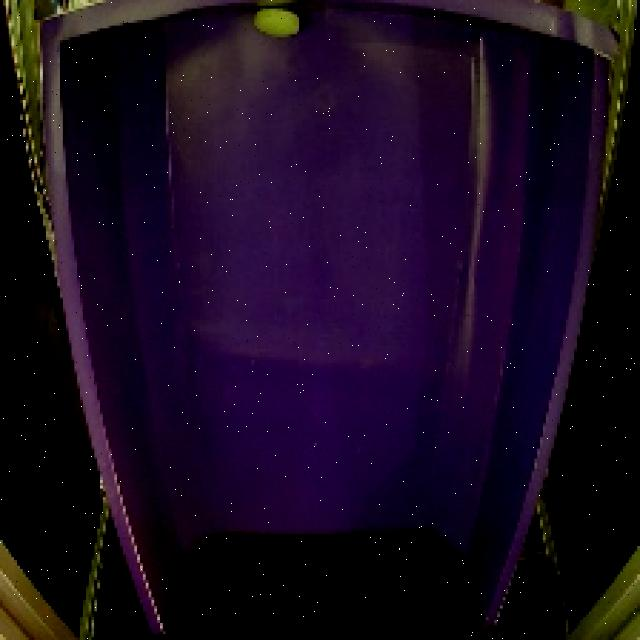small: (247, 2, 310, 44)
